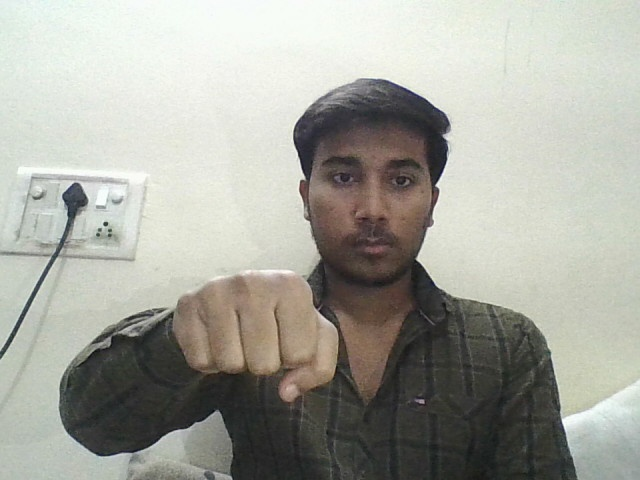yes: (140, 259, 374, 405)
